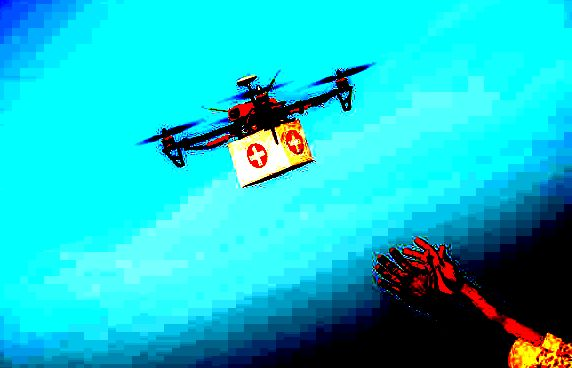Drone: (129, 57, 378, 169)
